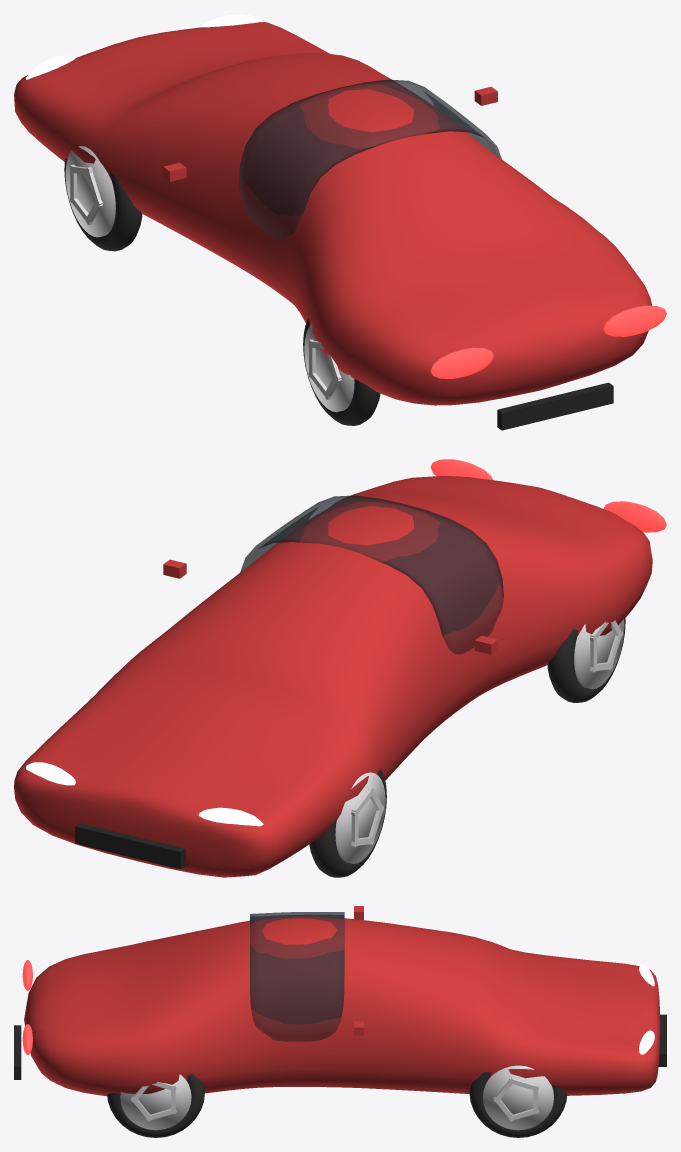
File: chevrolet_corvette_stingray_427_1967.glb
The picture shows the model from 3 angles, top to bottom: view 1: azimuth 30°, elevation 25°; view 2: azimuth 150°, elevation 25°; view 3: azimuth 270°, elevation 25°; orthographic projection. The views are drawn at different scales.
Visible parts, largest first — view 1: Body, Glass, Diffuser, Rim_FR, Tyre_FR, Rim_RR, Tyre_RR, Taillight_L, Taillight_R; view 2: Body, Glass, FrontIntake, Rim_FR, Tyre_RR, Rim_RR, Tyre_FR, Taillight_R, Taillight_L, Headlight_R, Headlight_L; view 3: Body, Glass, Rim_FL, Rim_RL, Tyre_FL, Tyre_RL, Diffuser, FrontIntake.
Part boxes in pixels (<box>): Body: <box>14,22,651,405</box>; Glass: <box>239,79,501,240</box>; Diffuser: <box>497,382,613,430</box>; Rim_FR: <box>65,146,115,237</box>; Tyre_FR: <box>64,158,142,251</box>; Rim_RR: <box>304,324,354,412</box>; Tyre_RR: <box>303,318,380,425</box>; Taillight_L: <box>603,305,666,336</box>; Taillight_R: <box>430,347,493,378</box>; Body: <box>14,476,652,877</box>; Glass: <box>240,495,503,654</box>; FrontIntake: <box>75,823,186,869</box>; Rim_FR: <box>335,772,385,863</box>; Tyre_RR: <box>547,618,625,702</box>; Rim_RR: <box>574,619,624,689</box>; Tyre_FR: <box>309,769,386,877</box>; Taillight_R: <box>603,501,666,532</box>; Taillight_L: <box>430,459,492,479</box>; Headlight_R: <box>198,807,263,826</box>; Headlight_L: <box>26,762,75,785</box>; Body: <box>24,916,660,1096</box>; Glass: <box>250,912,344,1041</box>; Rim_FL: <box>483,1065,553,1130</box>; Rim_RL: <box>120,1074,191,1130</box>; Tyre_FL: <box>469,1072,567,1137</box>; Tyre_RL: <box>107,1073,204,1137</box>; Diffuser: <box>14,1025,21,1079</box>; FrontIntake: <box>658,1014,666,1066</box>.
Size of the model in its own units: 1.98 by 1.24 by 4.48.
